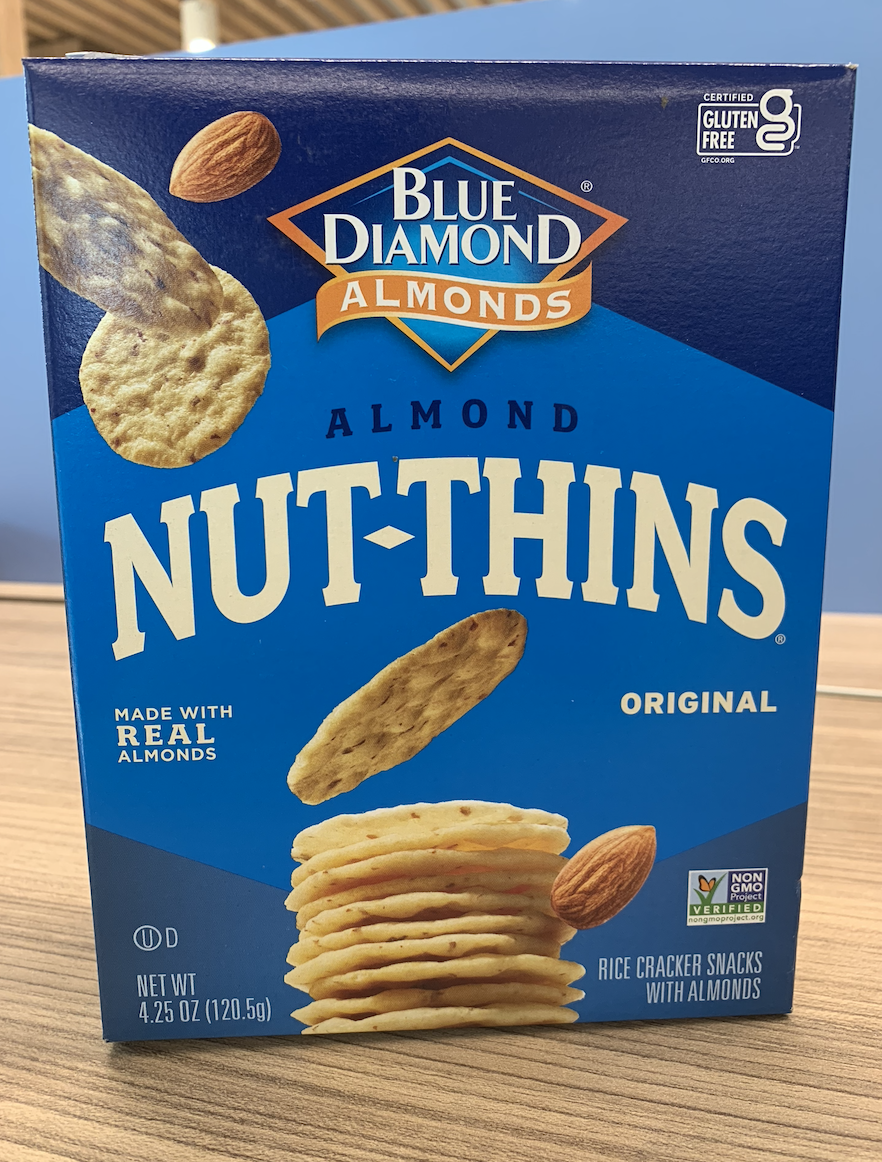crackers_100g-199g: (94, 69, 782, 1022)
